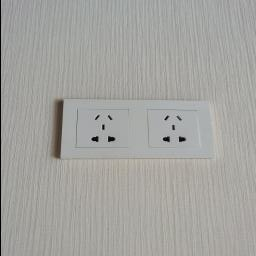outlet: (54, 94, 219, 162)
